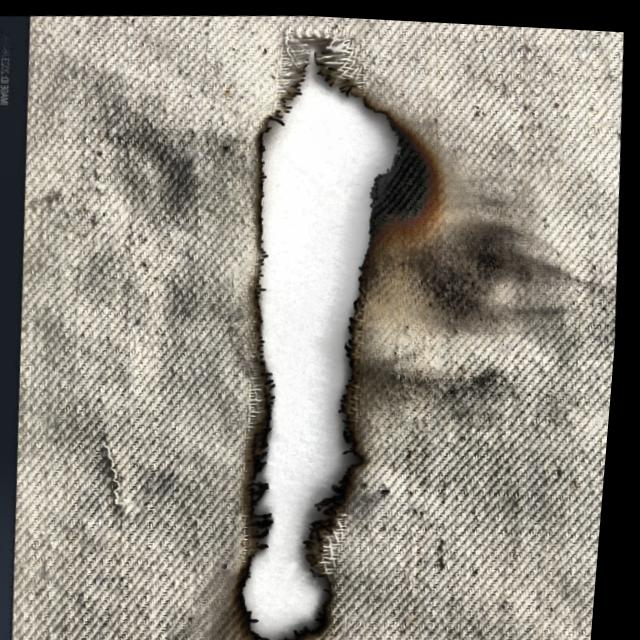Hole: (188, 9, 495, 640)
